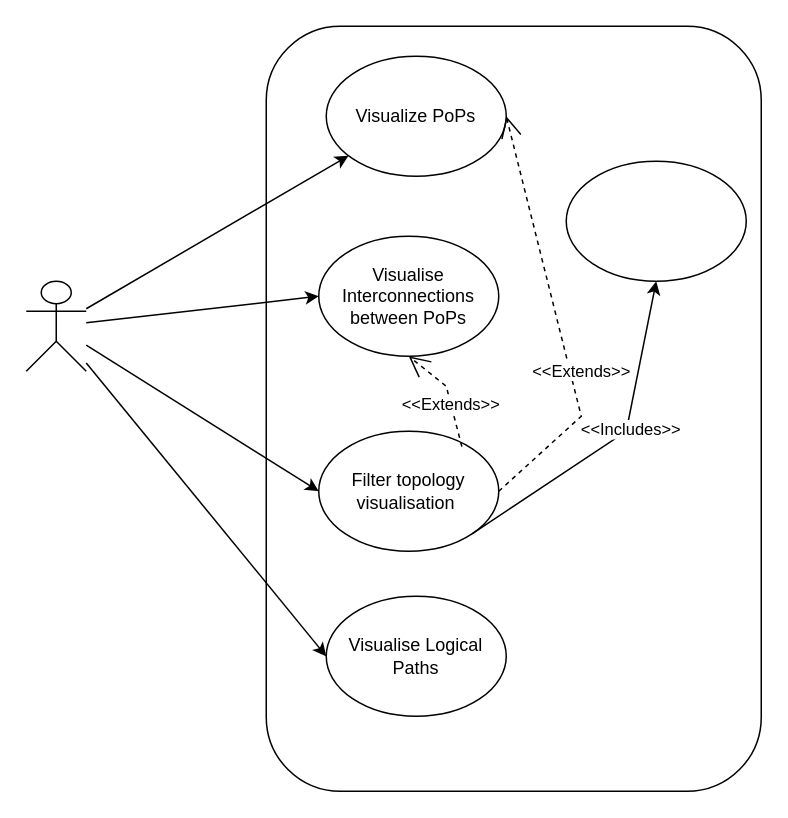
The diagram is 788 pixels wide and 818 high, and some of its shapes have lost their labels. Here are the shapes that lost their labels. From the top down, the box of each, then its label:
(565, 160, 746, 281): Display Geolocation and AS information
(25, 280, 86, 371): Actor
